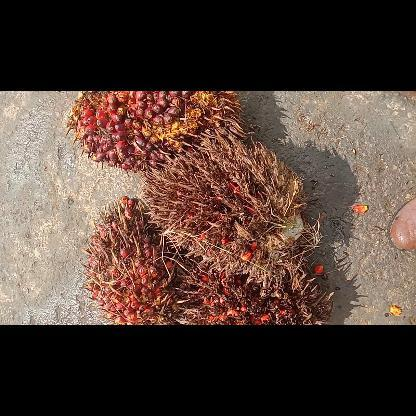TBS masak: (65, 91, 245, 179), (76, 198, 178, 324)
Terlalu masak: (137, 130, 319, 286), (170, 252, 334, 324)
